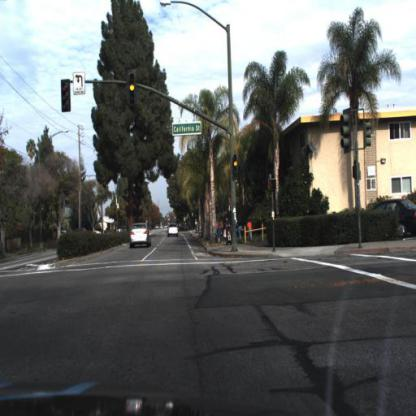car: (130, 222, 153, 250), (167, 223, 179, 239)
pedestrian: (224, 215, 233, 248), (247, 219, 255, 239), (218, 218, 223, 249)
trafficLight-RedLeft: (60, 79, 71, 115), (59, 78, 71, 105)
trafficLight-Yellow: (125, 80, 139, 103), (129, 70, 137, 103), (230, 154, 242, 174), (233, 155, 239, 176)
